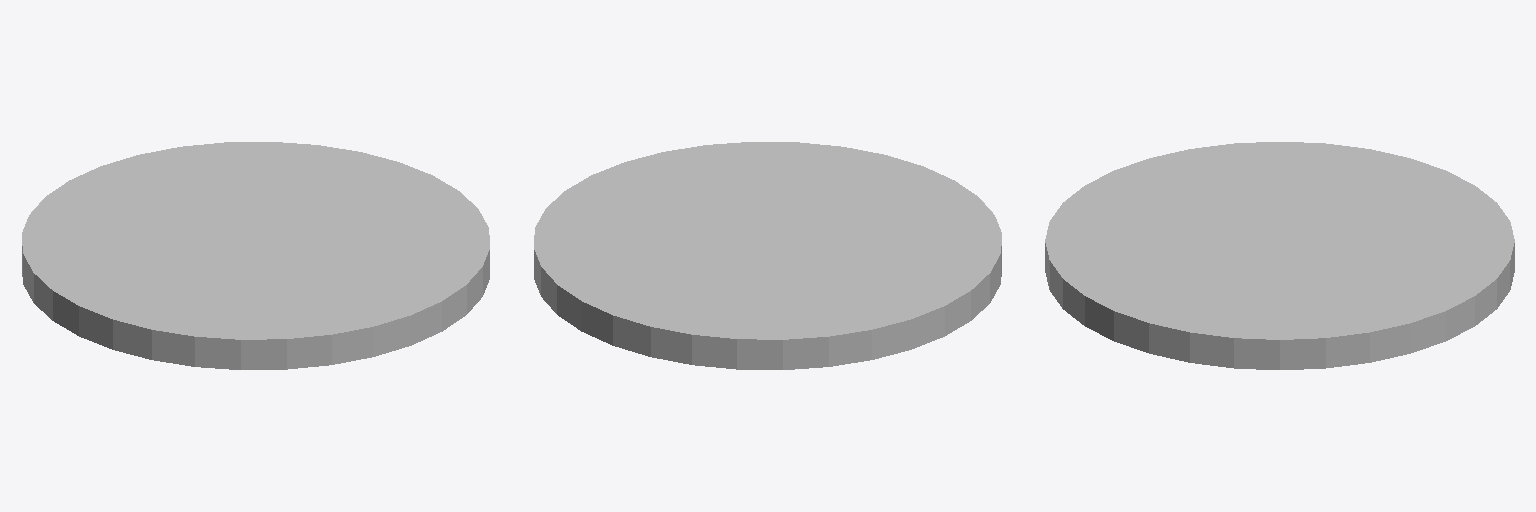
Rendered from player.obj.
3 views of the same model, side by side, from view 1: azimuth 30°, elevation 25°; view 2: azimuth 150°, elevation 25°; view 3: azimuth 270°, elevation 25° (orthographic).
Parts seen in each view (by area): view 1: 円柱.001; view 2: 円柱.001; view 3: 円柱.001.
Part boxes in pixels (x1,y1,x2,y2): 円柱.001: (22, 142, 489, 369); 円柱.001: (534, 142, 1001, 369); 円柱.001: (1045, 142, 1514, 369).
Size of the model in its own units: 2.8 by 0.2 by 2.8.